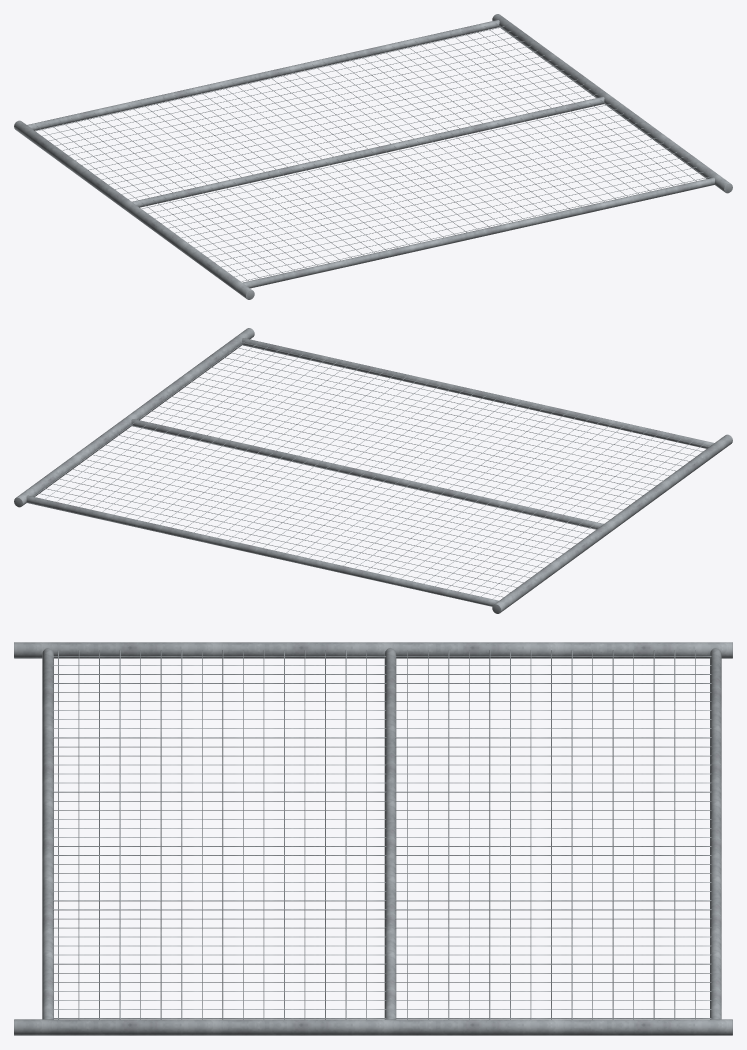
Rendered from PAV-MOB-004_anim.glb.
3 views of the same model, one above another, from view 1: azimuth 30°, elevation 25°; view 2: azimuth 150°, elevation 25°; view 3: azimuth 270°, elevation 25° (orthographic). The views are drawn at different scales.
Visible parts, largest first — view 1: PAV-MOB-004_anim0; view 2: PAV-MOB-004_anim0; view 3: PAV-MOB-004_anim0.
Boxes of the visible parts, bbox=[...] form: PAV-MOB-004_anim0: bbox=[14, 14, 732, 299]; PAV-MOB-004_anim0: bbox=[14, 328, 732, 613]; PAV-MOB-004_anim0: bbox=[14, 642, 732, 1035].
Size of the model in its own units: 2.55 by 0.098 by 2.1.
Materials: 1 (1 with a texture image).
